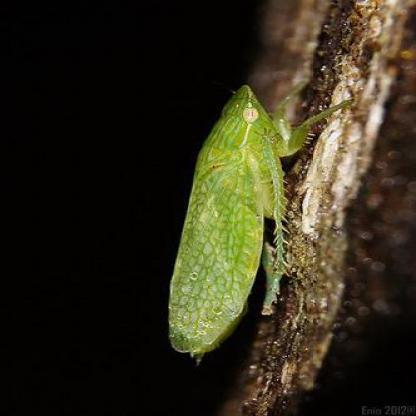green-leafhopper: (171, 84, 307, 355)
